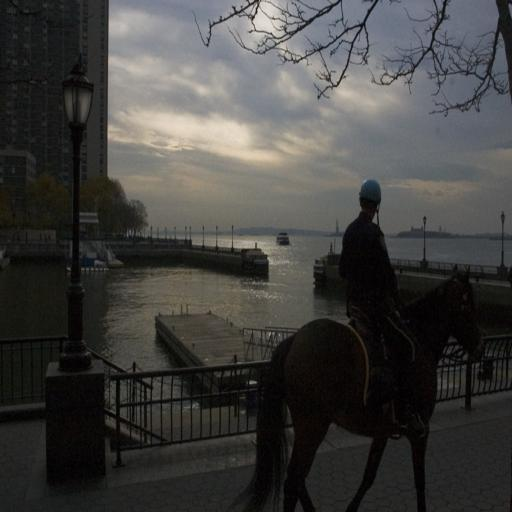horse: (228, 264, 486, 511)
